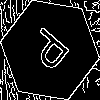P: (25, 25, 78, 79)
